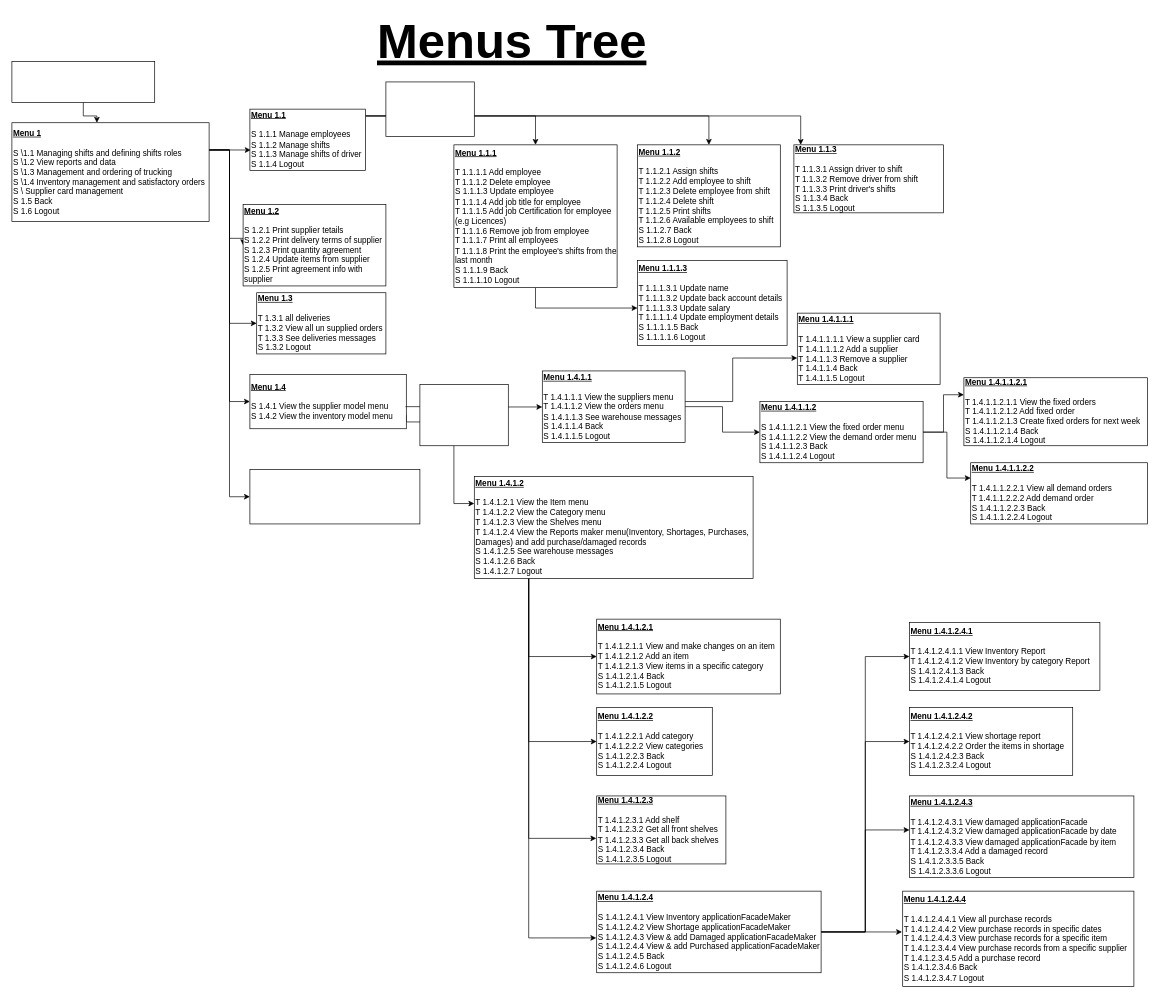
The diagram is 1159 pixels wide and 998 high, and some of its shapes have lost their labels. Here are the shapes that lost their labels. From the top down, the centre of each, then its label:
the point at 83,81: Menu 0 S 1.Enter your ID for sign in T 2.Enter load for loading fake data
the point at 429,108: Menu 1.4.1 S /1.4.1.1 all branches S 1.4.1.2 Back S 1.4.1.3 Logout
the point at 463,415: Menu 1.4.1 S /1.4.1.1 branches employee works in S 1.4.1.2 Back S 1.4.1.3 Logout
the point at 334,496: Menu 1.5 T 1.5.1 Print shifts T 1.5.2 Add job constraint S 1.5.3 Logout
